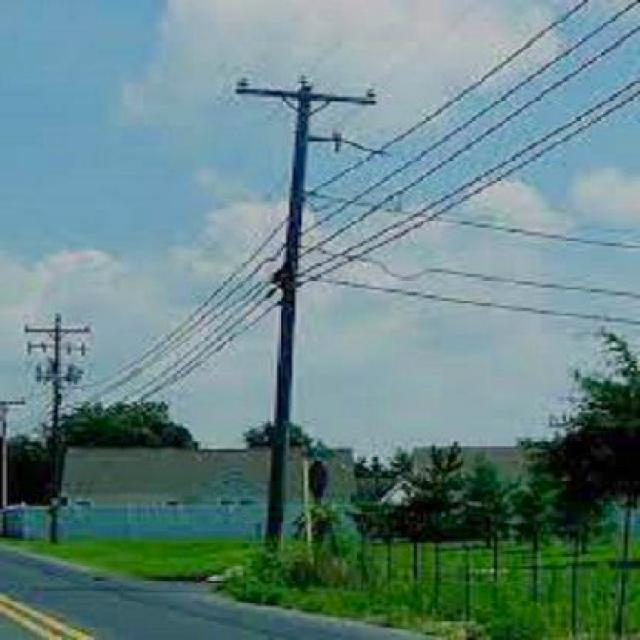crossarm: (218, 75, 380, 117)
pole: (268, 75, 311, 540)
wire: (89, 0, 592, 394), (298, 23, 640, 264), (301, 0, 640, 240), (299, 74, 640, 278), (300, 89, 640, 291), (73, 240, 285, 408), (305, 188, 640, 253), (304, 244, 640, 302), (120, 278, 271, 401), (299, 273, 640, 327), (129, 296, 280, 405)
